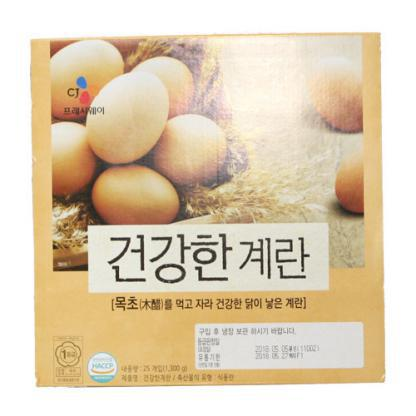egg: (65, 50, 184, 166), (86, 152, 212, 235), (30, 40, 128, 115), (148, 112, 232, 184)
